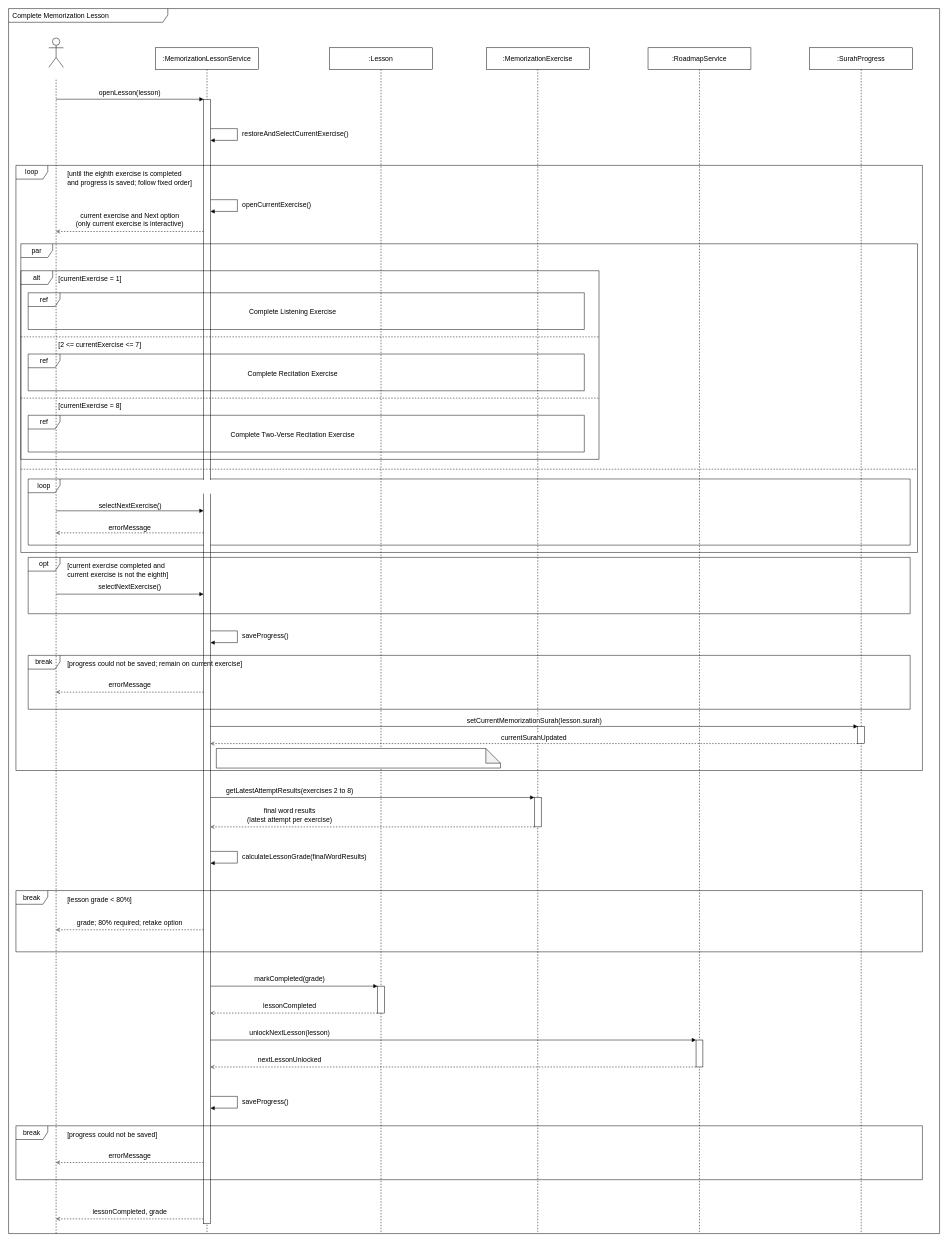
Some shapes in this 948 by 1243 pixel diagram are drawn without their labels. Here are the shapes that lost their labels. From the top down, the centre of each, then its label:
At (x=55, y=52): "User".
At (x=184, y=486): "[user attempts Next while exercise is incomplete]".
At (x=358, y=758): "For exercises 1–7, advance to the next exercise after a successful save.".
